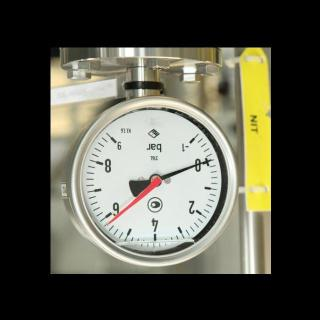gauge: (54, 94, 242, 274), (102, 126, 126, 152), (178, 130, 202, 154), (149, 173, 163, 187), (105, 218, 112, 227), (206, 156, 213, 164)
